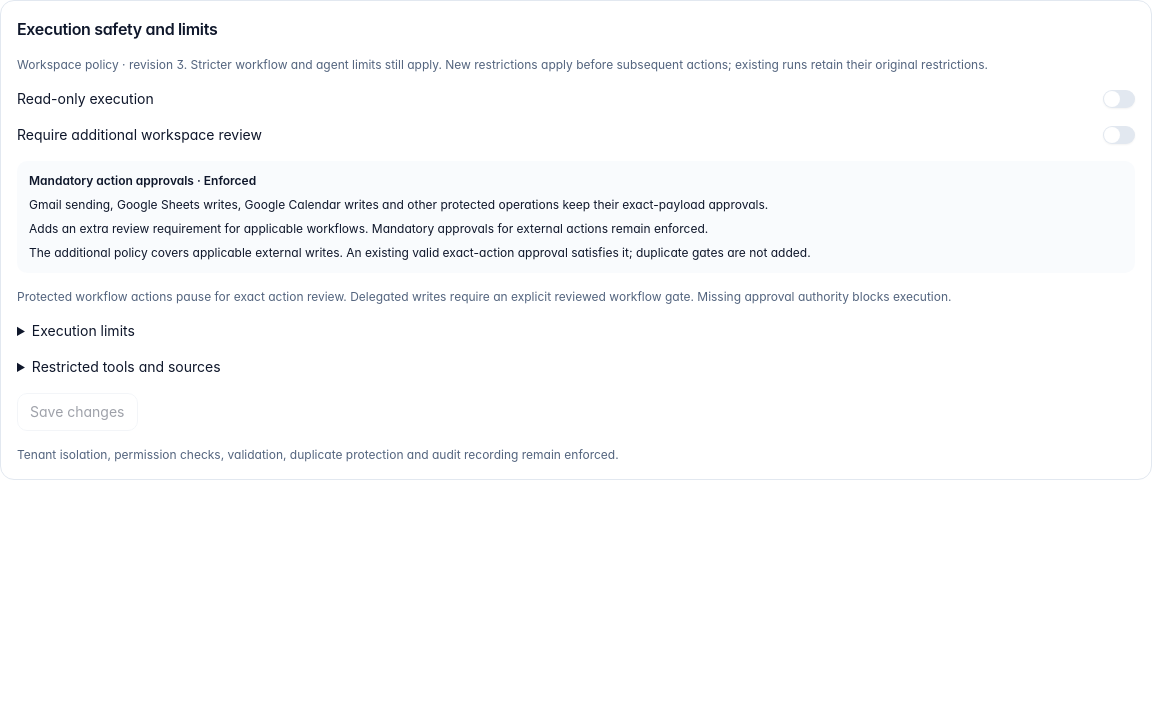
it: retains unsaved changes when a revision conflict rejects the save
The image size is (1152, 720).
Click the switch named "Read-only execution". click: (1119, 99)
box: [1103, 90, 1135, 108]
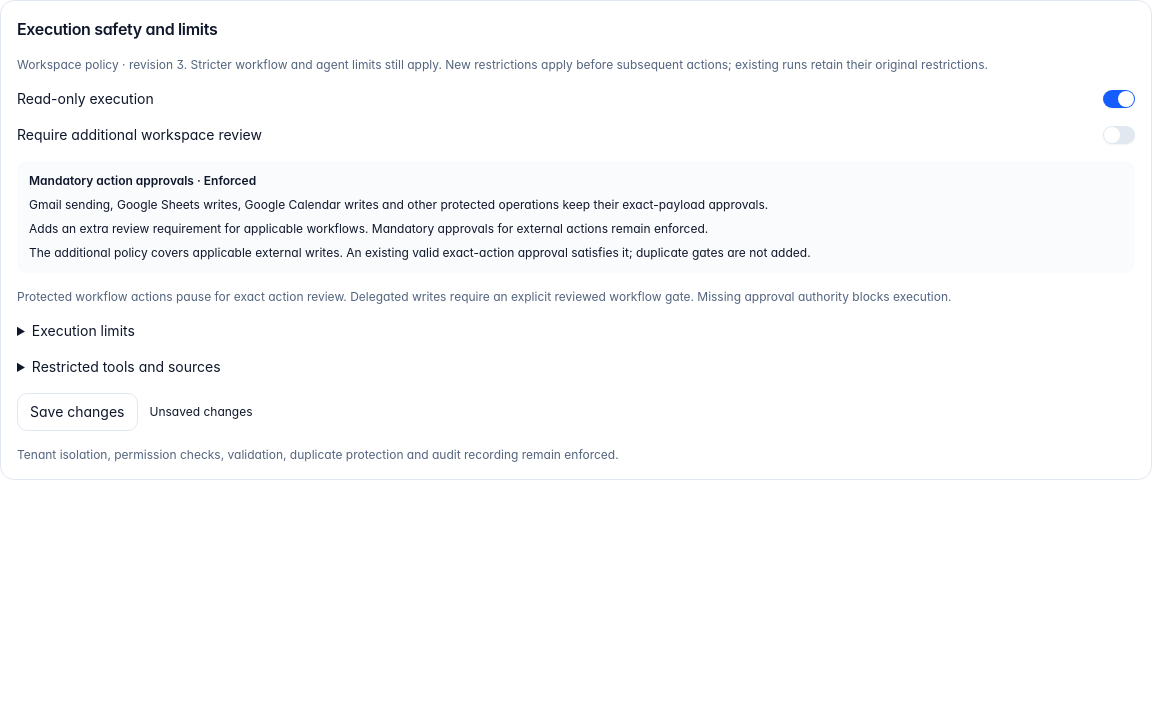
Click the button "Save changes". click: (77, 412)
box: [17, 393, 138, 431]
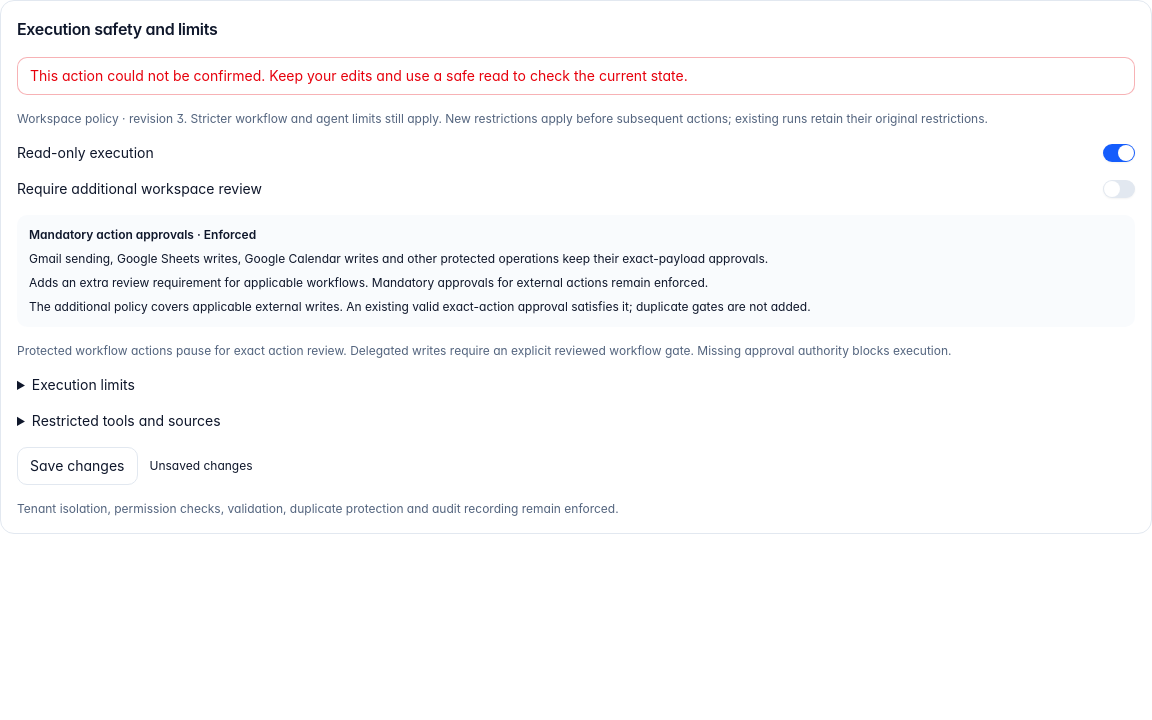
Check: the switch named "Read-only execution" is checked, box [1103, 144, 1135, 162]
Check: the text "Unsaved changes" is shown, box [150, 458, 252, 474]
Check: the 1st message is shown, box [17, 57, 1135, 95]
